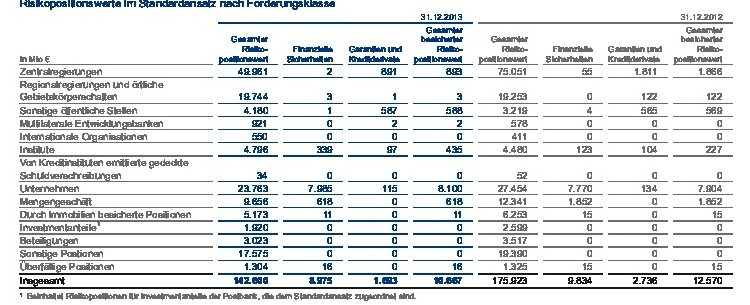table: (0, 0, 750, 305)
